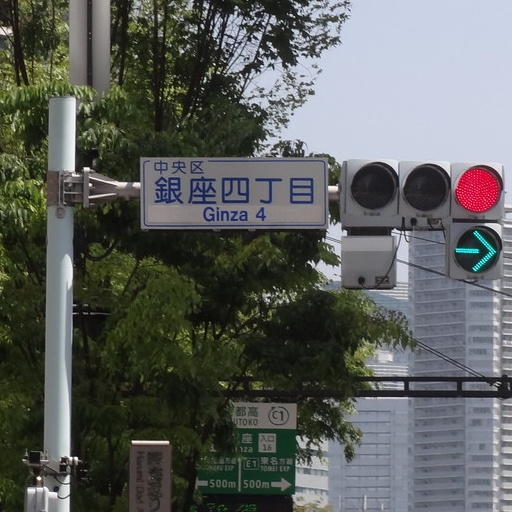Traffic_Signal_Red: (336, 152, 506, 224)
